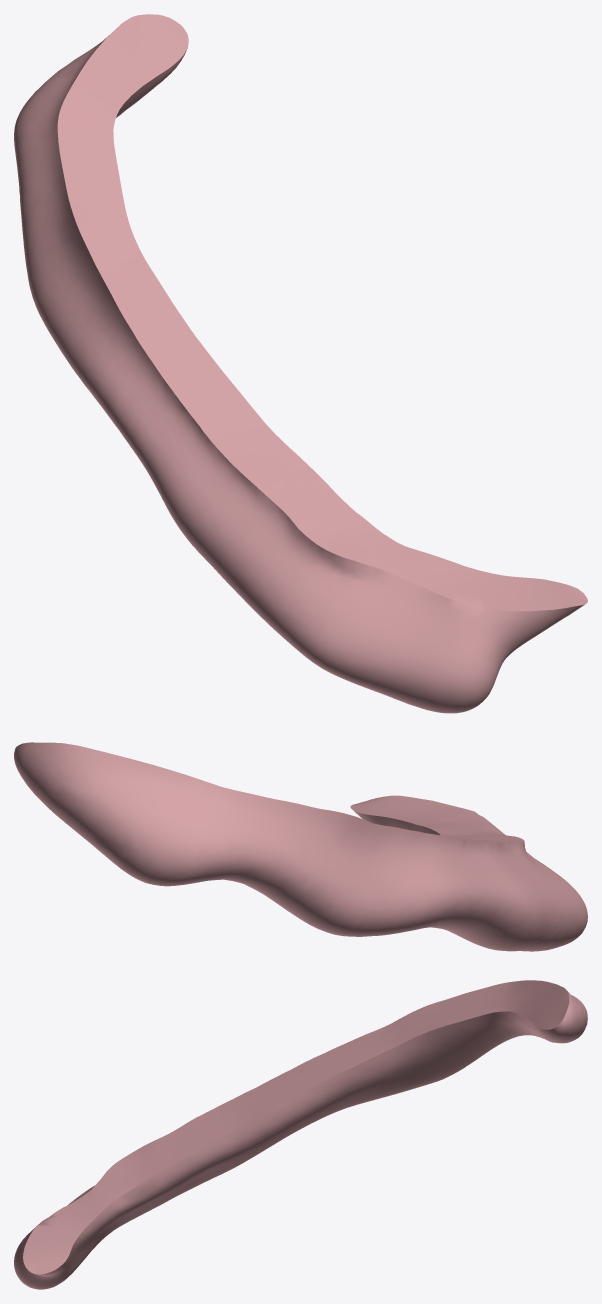
Rendered from fma75741-r_mm3042m.glb.
3 renders of one model, top to bottom at view 1: azimuth 30°, elevation 25°; view 2: azimuth 150°, elevation 25°; view 3: azimuth 270°, elevation 25°, orthographic. The views are drawn at different scales.
Parts seen in each view (by area): view 1: FMA75741-R_MM3042M; view 2: FMA75741-R_MM3042M; view 3: FMA75741-R_MM3042M.
Part boxes in pixels (x1,y1,x2,y2): FMA75741-R_MM3042M: [14, 14, 587, 713]; FMA75741-R_MM3042M: [14, 742, 587, 951]; FMA75741-R_MM3042M: [14, 980, 587, 1289].
Bounding box in the file's own units: 0.0142 × 0.0197 × 0.0332.
